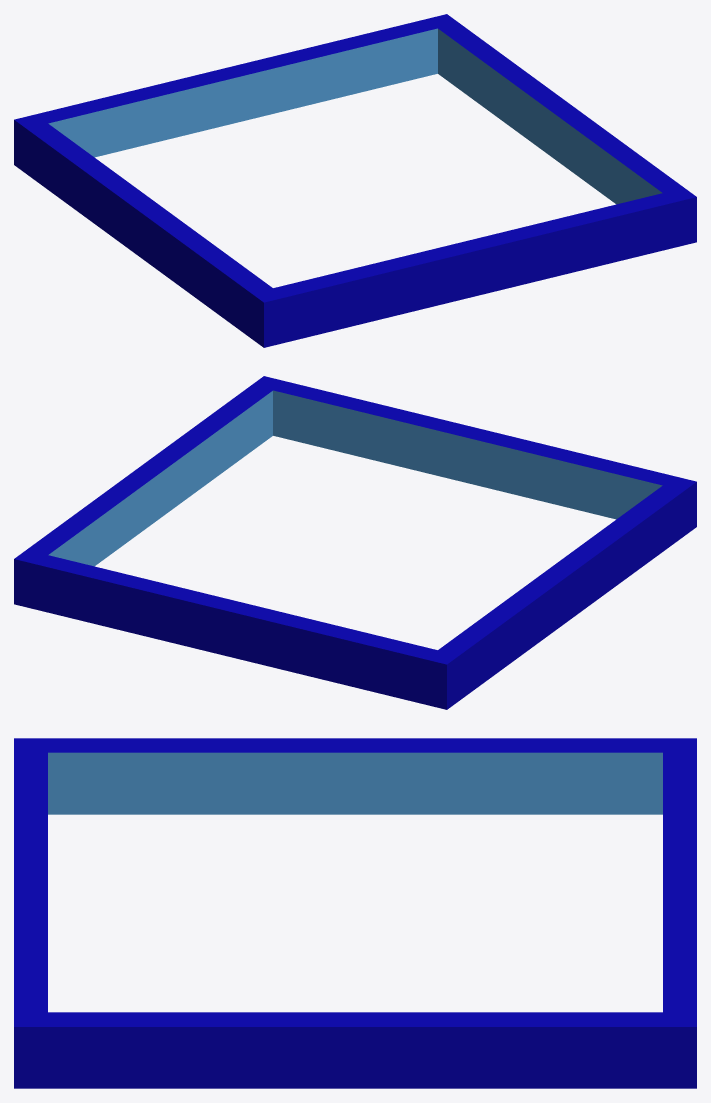
File: Face_Quad_Int.glb
3 renders of one model, top to bottom at view 1: azimuth 30°, elevation 25°; view 2: azimuth 150°, elevation 25°; view 3: azimuth 270°, elevation 25°, orthographic. The views are drawn at different scales.
Parts seen in each view (by area): view 1: Face_Quad_Int; view 2: Face_Quad_Int; view 3: Face_Quad_Int.
Part boxes in pixels (<box>): Face_Quad_Int: <box>14,14,696,347</box>; Face_Quad_Int: <box>14,376,696,709</box>; Face_Quad_Int: <box>14,738,696,1088</box>.
Bounding box in the file's own units: 2 × 0.2 × 2.
